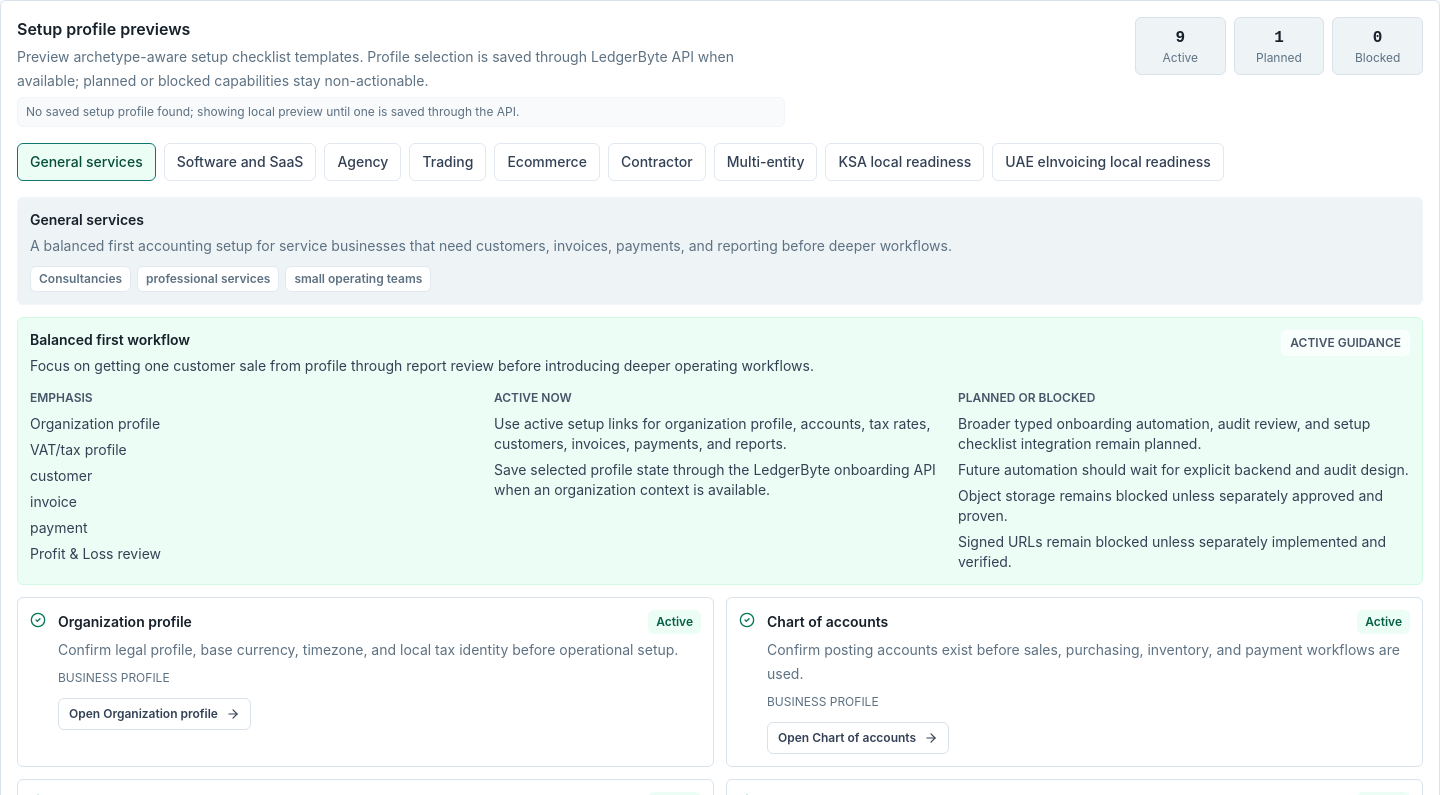
Test: typed onboarding checklist preview › changes archetype through the API and refreshes the checklist preview
The width and height of the screenshot is (1440, 795).
Step 1. Click the button "Software and SaaS" → coordinates (240, 162), box [164, 143, 316, 181]
(page scrolled)
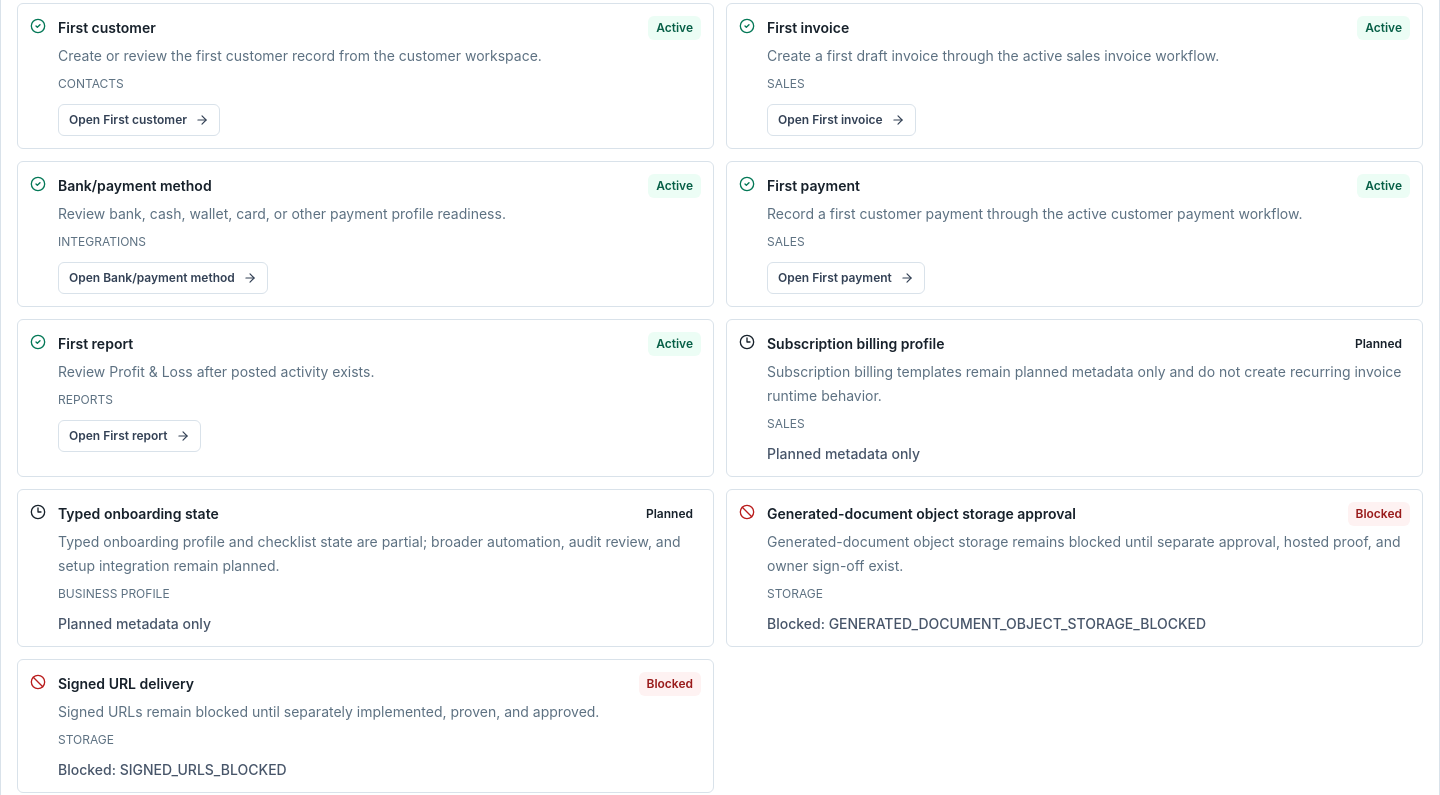
Check: the element with test id "typed-onboarding-item-subscription_billing_profile" shows "Subscription billing profile", box [767, 335, 944, 352]
Check: the element with test id "typed-onboarding-item-generated_document_object_storage" shows "Blocked", box [1356, 506, 1402, 521]
